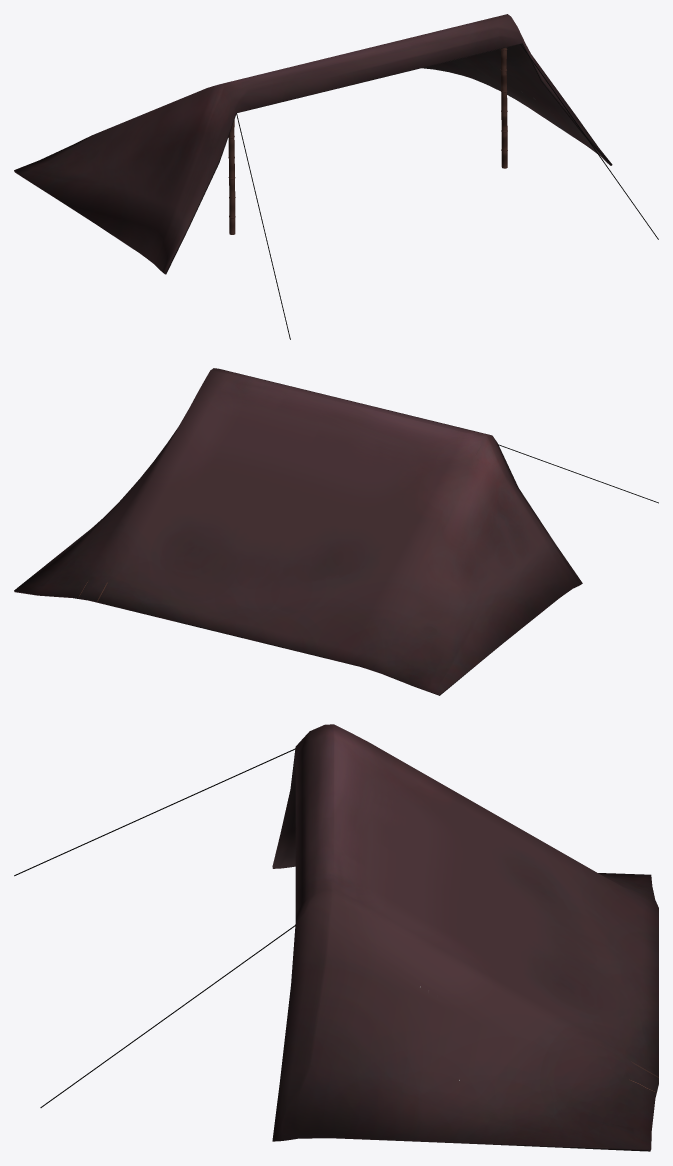
File: Tenda3.fbx
3 views of the same model, one above another, from view 1: azimuth 30°, elevation 25°; view 2: azimuth 150°, elevation 25°; view 3: azimuth 270°, elevation 25° (orthographic). The views are drawn at different scales.
Visible parts, largest first — view 1: Cylinder.160; view 2: Cylinder.160; view 3: Cylinder.160.
Boxes of the visible parts, bbox=[...] form: Cylinder.160: bbox=[14, 14, 658, 339]; Cylinder.160: bbox=[14, 368, 658, 695]; Cylinder.160: bbox=[14, 724, 658, 1151].
Size of the model in its own units: 13206 by 4530 by 13108.
